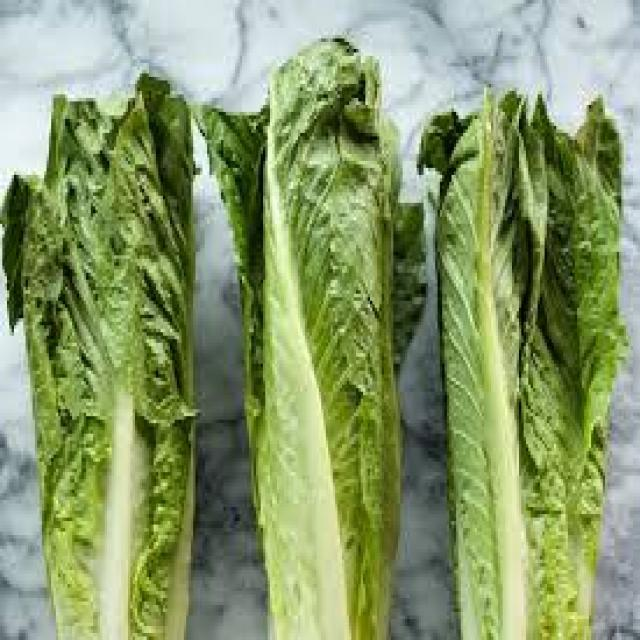Lettuce: (195, 38, 428, 640), (433, 48, 640, 640), (0, 70, 201, 640)
